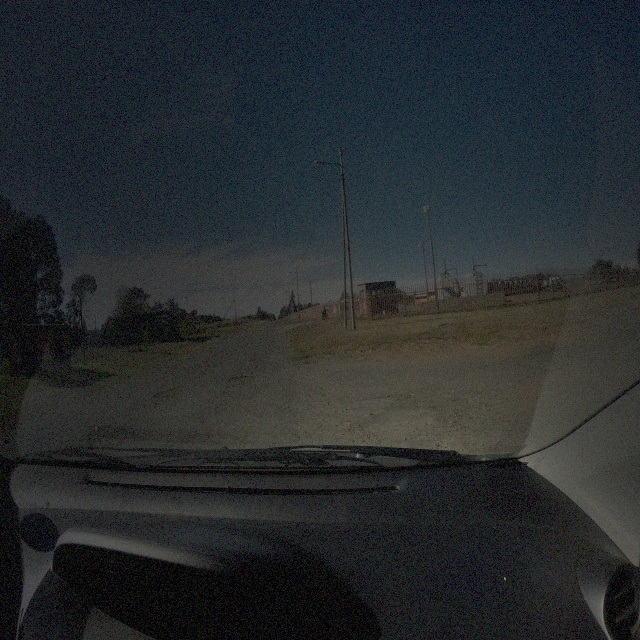pothole: (151, 390, 183, 399), (228, 374, 255, 384)
